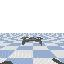drone: (21, 37, 43, 46)
